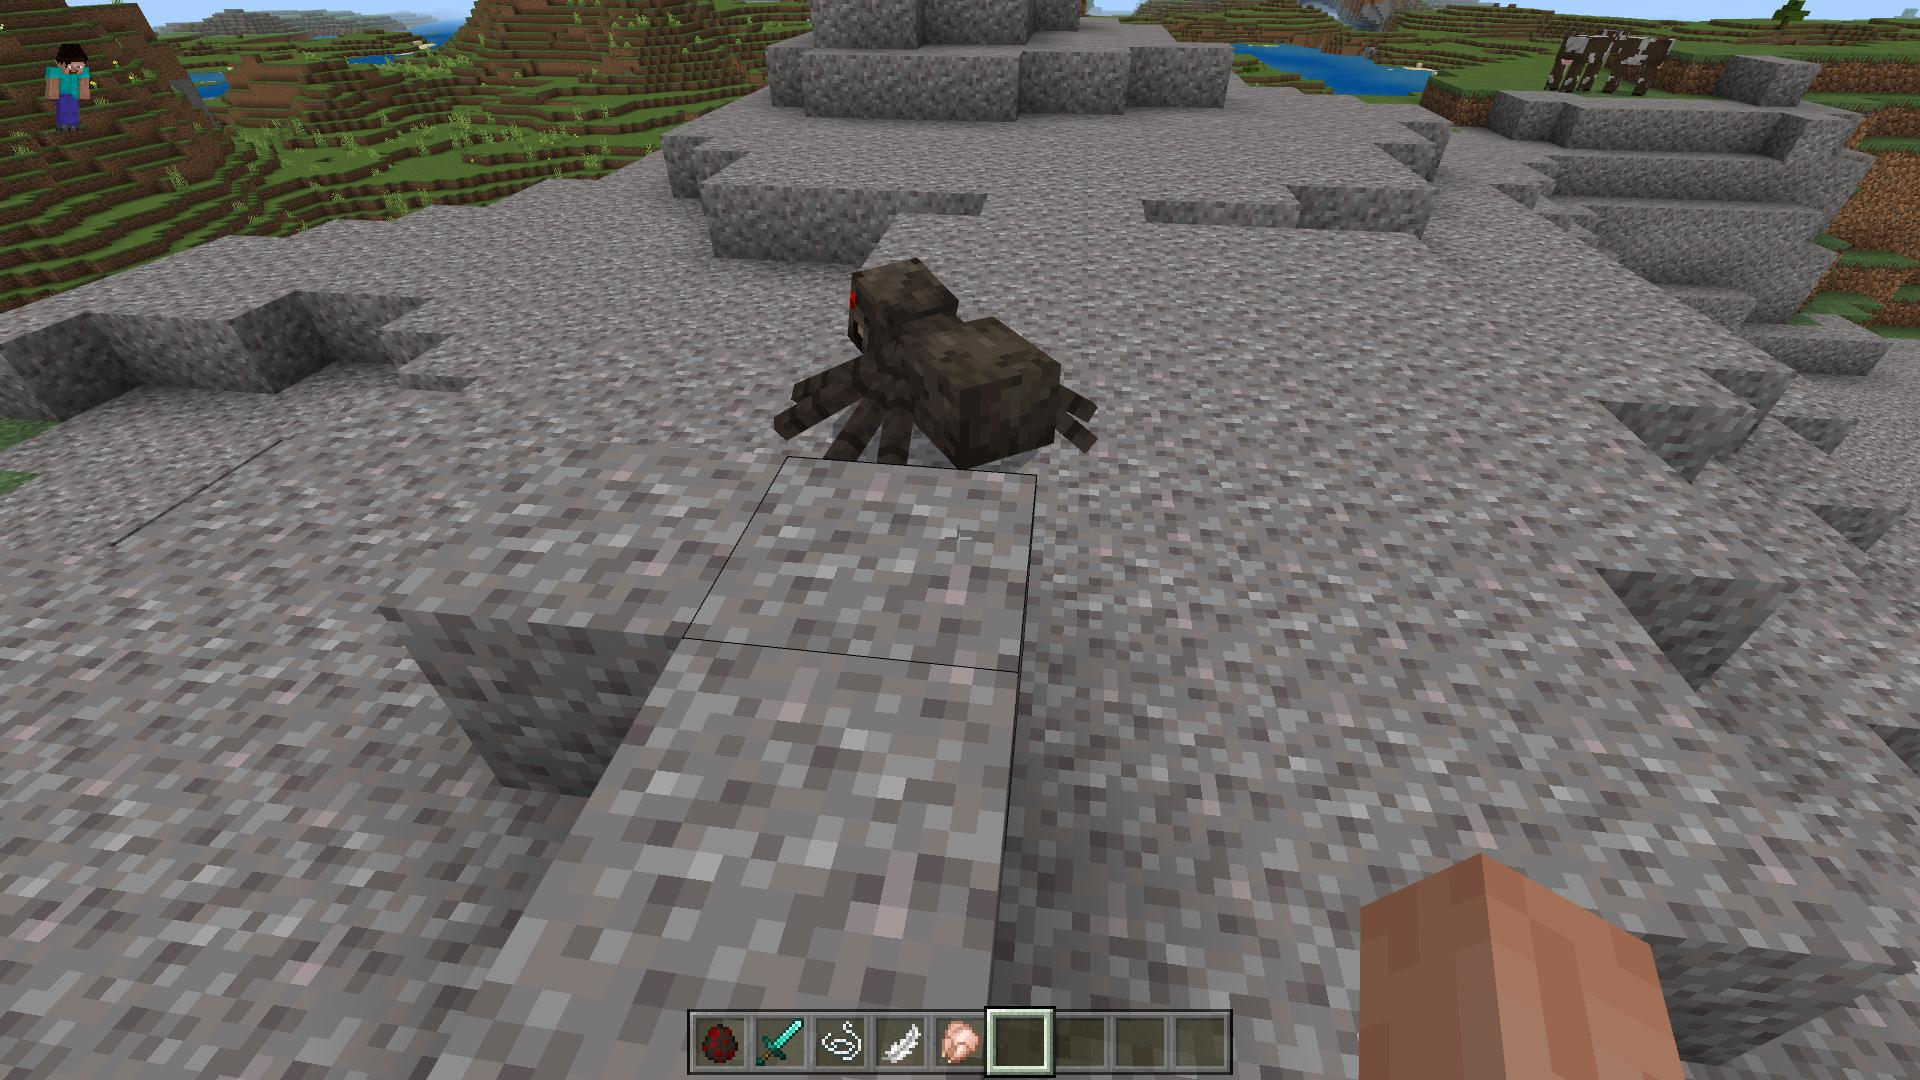spider: (777, 255, 1100, 484)
